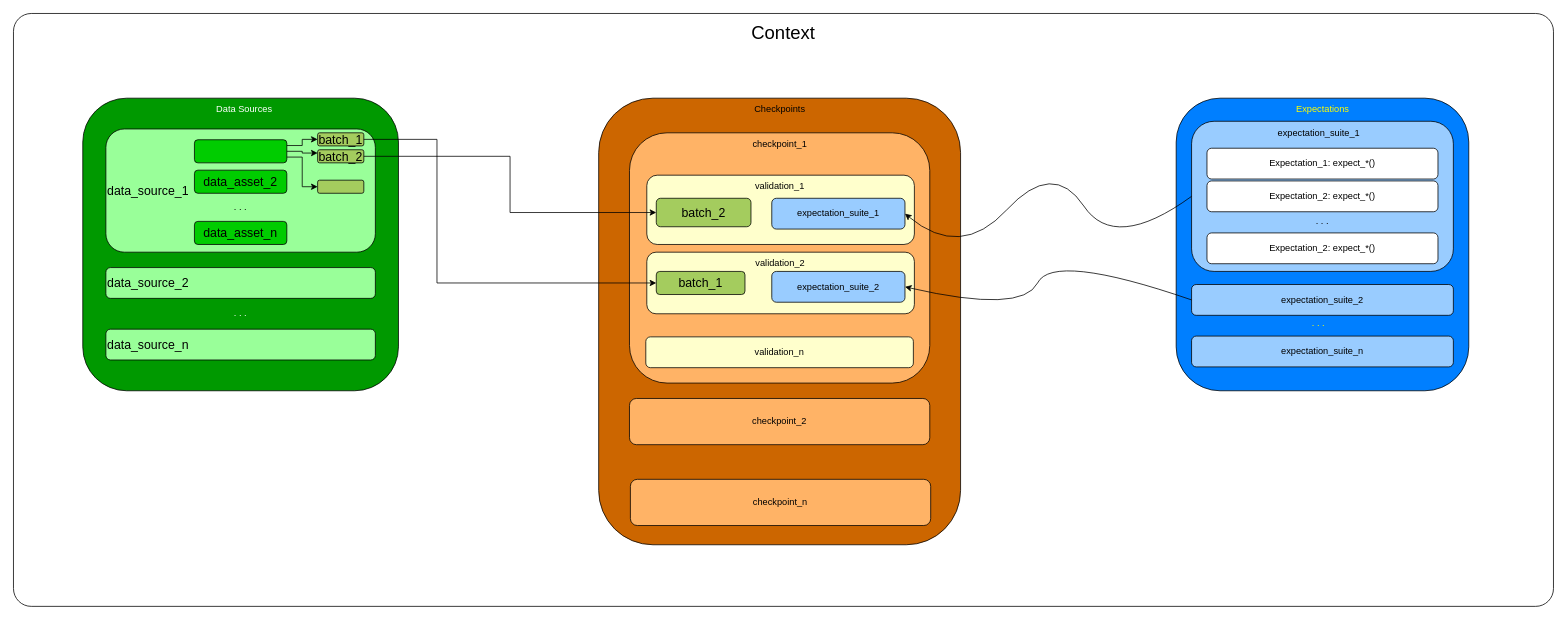
Image size: 1567x620. Some labels were removed from this diagram. The centre of each missing label's shape, as x and y in pixels:
batch_n: pixel 340 186
data_asset_1: pixel 240 151
